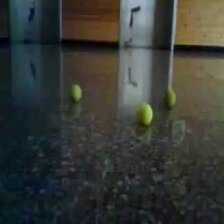tennis: (136, 103, 153, 126), (70, 84, 83, 103)
